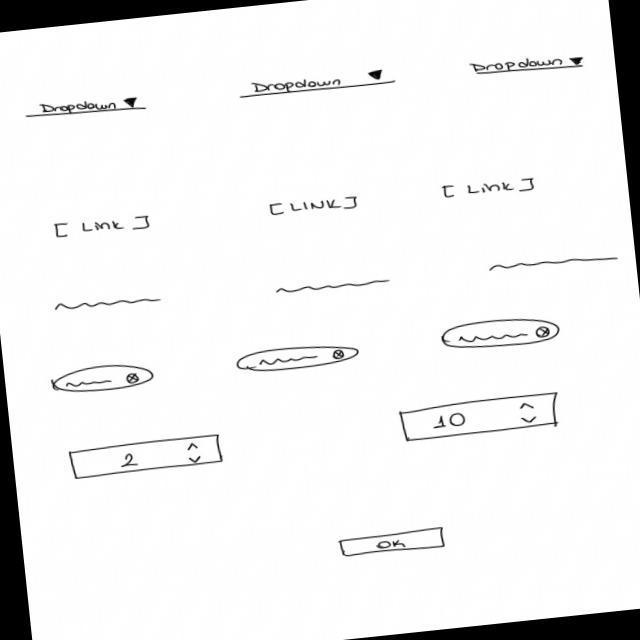button: (339, 526, 448, 560)
link: (53, 213, 152, 241), (441, 175, 539, 203), (270, 194, 361, 218)
number-input: (399, 391, 563, 445), (67, 433, 225, 483)
select: (237, 66, 400, 101), (23, 92, 149, 123), (469, 49, 588, 80)
text: (487, 251, 620, 276), (274, 275, 396, 297), (53, 292, 164, 316)
